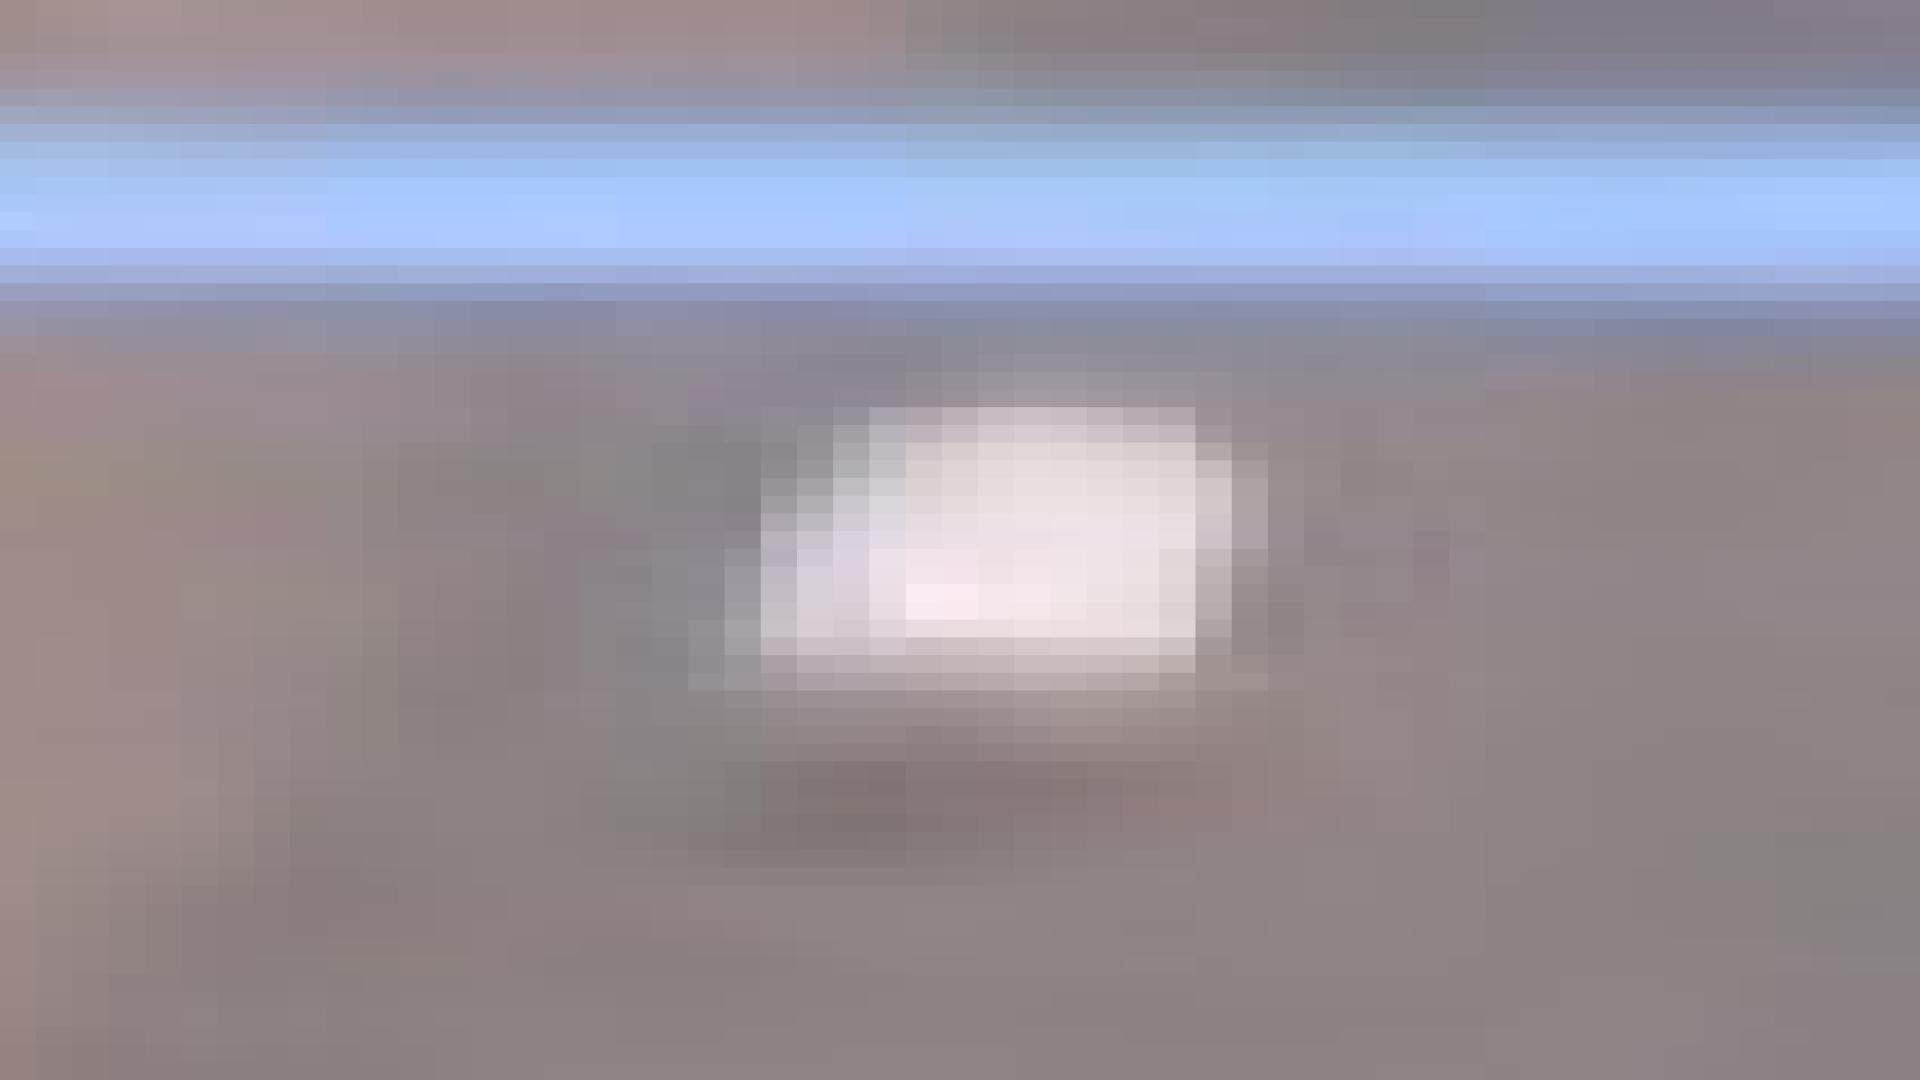Squash-Ball: (0, 17, 1920, 1080)
